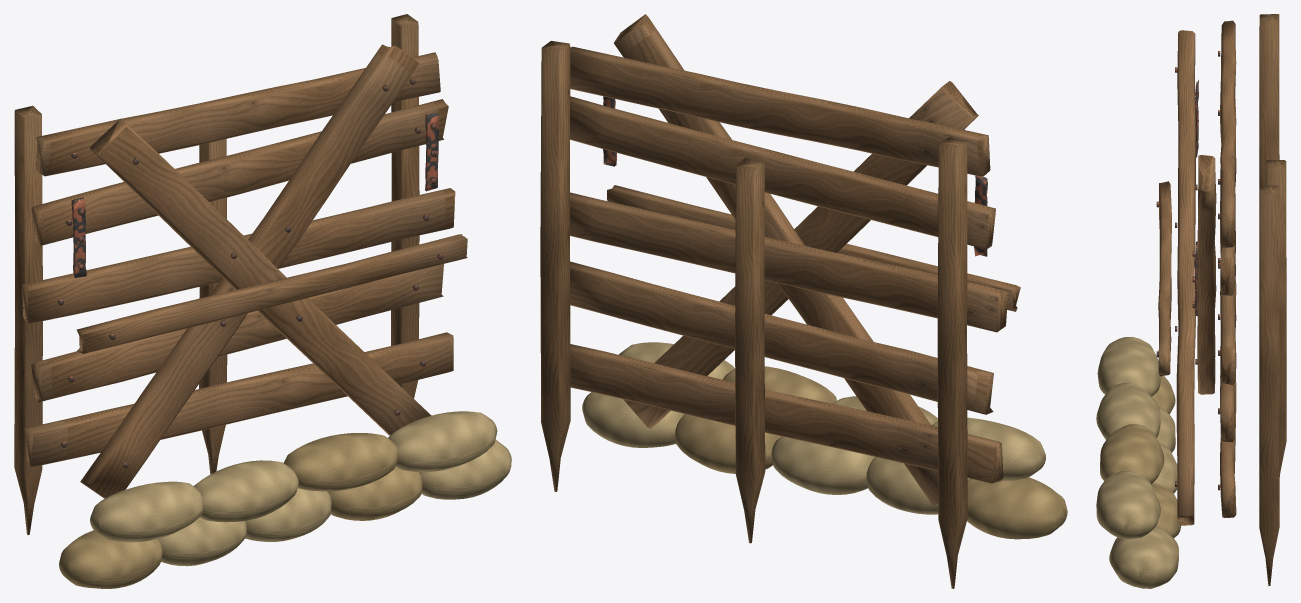
File: PROJECT_Z_Barricade_Variation_02.glb
3 renders of one model, left to right at view 1: azimuth 30°, elevation 25°; view 2: azimuth 150°, elevation 25°; view 3: azimuth 270°, elevation 25°, orthographic. The views are drawn at different scales.
Parts seen in each view (by area): view 1: VAR02_CrossBraced_170cm, VAR02_CrossBraced_170cm__CrossBar_NE_to_SW, VAR02_CrossBraced_170cm__CrossBar_NW_to_SE, VAR02_CrossBraced_170cm__Midline_RetainingStrip, VAR02_CrossBraced_170cm__Stake_Left_Point, VAR02_CrossBraced_170cm__Stake_Right_Point, VAR02_CrossBraced_170cm__Middle_Stud, VAR02_CrossBraced_170cm__Bracket_TopLeft, VAR02_CrossBraced_170cm__Bracket_TopRight; view 2: VAR02_CrossBraced_170cm, VAR02_CrossBraced_170cm__Stake_Left_Point, VAR02_CrossBraced_170cm__Stake_Right_Point, VAR02_CrossBraced_170cm__Middle_Stud, VAR02_CrossBraced_170cm__CrossBar_NE_to_SW, VAR02_CrossBraced_170cm__CrossBar_NW_to_SE, VAR02_CrossBraced_170cm__Midline_RetainingStrip; view 3: VAR02_CrossBraced_170cm, VAR02_CrossBraced_170cm__CrossBar_NW_to_SE, VAR02_CrossBraced_170cm__Stake_Right_Point, VAR02_CrossBraced_170cm__CrossBar_NE_to_SW, VAR02_CrossBraced_170cm__Stake_Left_Point, VAR02_CrossBraced_170cm__Middle_Stud, VAR02_CrossBraced_170cm__Midline_RetainingStrip, VAR02_CrossBraced_170cm__Bracket_TopRight.
Part boxes in pixels (x1,y1,x2,y2): VAR02_CrossBraced_170cm: [22, 52, 511, 588]; VAR02_CrossBraced_170cm__CrossBar_NE_to_SW: [80, 44, 419, 498]; VAR02_CrossBraced_170cm__CrossBar_NW_to_SE: [89, 118, 431, 435]; VAR02_CrossBraced_170cm__Midline_RetainingStrip: [77, 234, 467, 353]; VAR02_CrossBraced_170cm__Stake_Left_Point: [14, 105, 42, 534]; VAR02_CrossBraced_170cm__Stake_Right_Point: [391, 14, 419, 398]; VAR02_CrossBraced_170cm__Middle_Stud: [199, 139, 227, 474]; VAR02_CrossBraced_170cm__Bracket_TopLeft: [71, 197, 86, 277]; VAR02_CrossBraced_170cm__Bracket_TopRight: [425, 112, 439, 191]; VAR02_CrossBraced_170cm: [570, 46, 1067, 539]; VAR02_CrossBraced_170cm__Stake_Left_Point: [937, 137, 967, 588]; VAR02_CrossBraced_170cm__Stake_Right_Point: [540, 41, 570, 491]; VAR02_CrossBraced_170cm__Middle_Stud: [735, 157, 765, 543]; VAR02_CrossBraced_170cm__CrossBar_NE_to_SW: [614, 14, 938, 505]; VAR02_CrossBraced_170cm__CrossBar_NW_to_SE: [623, 81, 978, 428]; VAR02_CrossBraced_170cm__Midline_RetainingStrip: [607, 185, 1020, 311]; VAR02_CrossBraced_170cm: [1096, 20, 1236, 588]; VAR02_CrossBraced_170cm__CrossBar_NW_to_SE: [1176, 30, 1196, 525]; VAR02_CrossBraced_170cm__Stake_Right_Point: [1259, 185, 1279, 585]; VAR02_CrossBraced_170cm__CrossBar_NE_to_SW: [1197, 155, 1216, 394]; VAR02_CrossBraced_170cm__Stake_Left_Point: [1259, 14, 1279, 197]; VAR02_CrossBraced_170cm__Middle_Stud: [1266, 160, 1286, 476]; VAR02_CrossBraced_170cm__Midline_RetainingStrip: [1158, 181, 1171, 376]; VAR02_CrossBraced_170cm__Bracket_TopRight: [1194, 241, 1198, 316].
Size of the model in its own units: 1.85 by 1.73 by 0.729.
5 materials, 5 textured.
